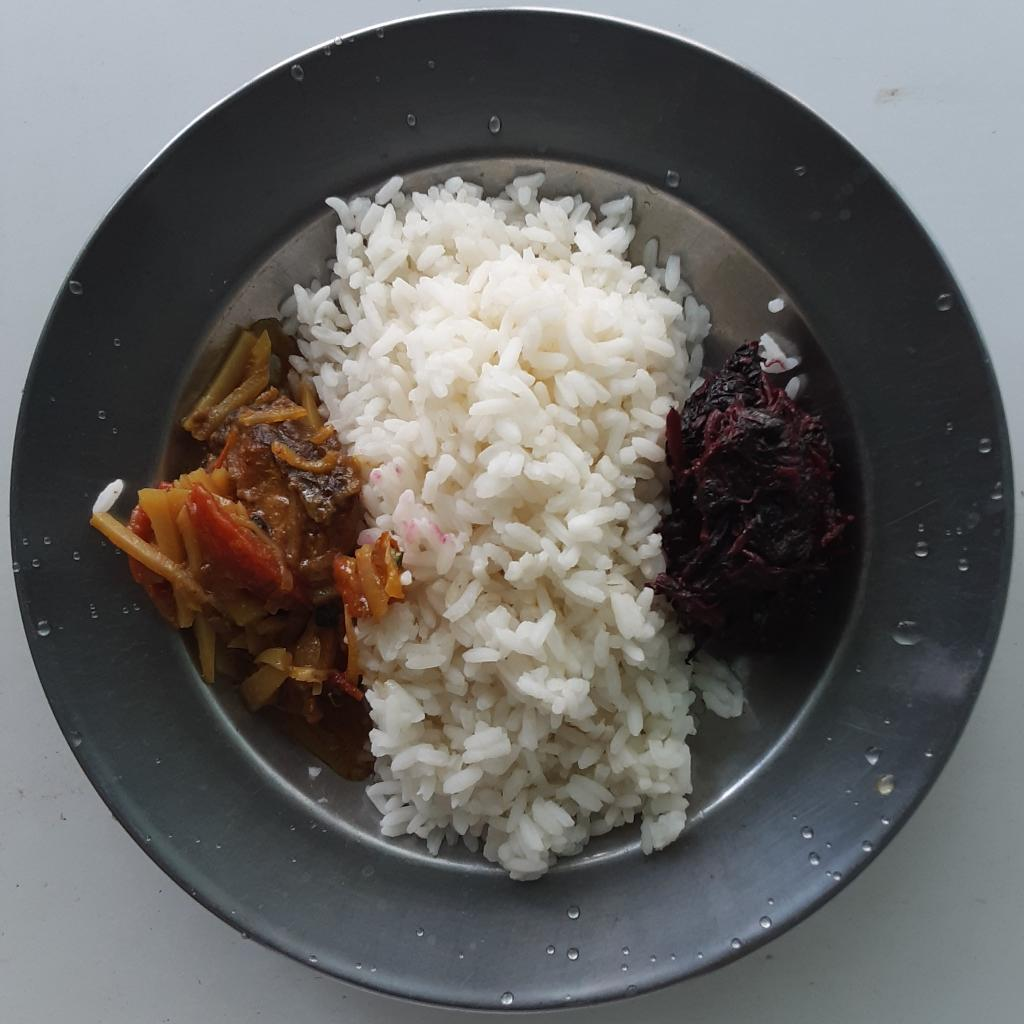fish: (213, 383, 362, 610)
lal-shak: (654, 340, 839, 646)
rice: (281, 173, 741, 878)
vegetable: (91, 325, 410, 723)
